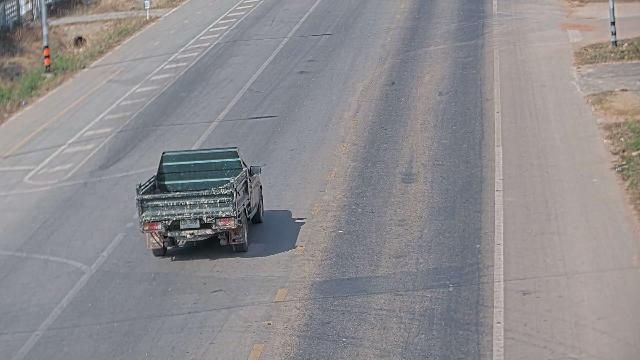pickup-truck: (134, 145, 265, 256)
